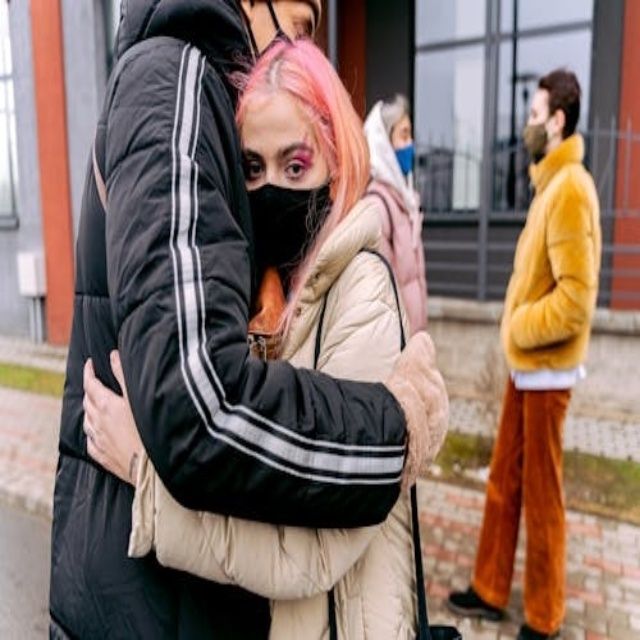Guantes: (386, 333, 451, 491)
Mascara: (247, 180, 332, 277), (522, 119, 550, 161), (394, 142, 414, 176)
Sin_gafas: (238, 125, 315, 181), (522, 100, 552, 121), (389, 117, 415, 136)
Sin_guantes: (83, 349, 145, 489)
